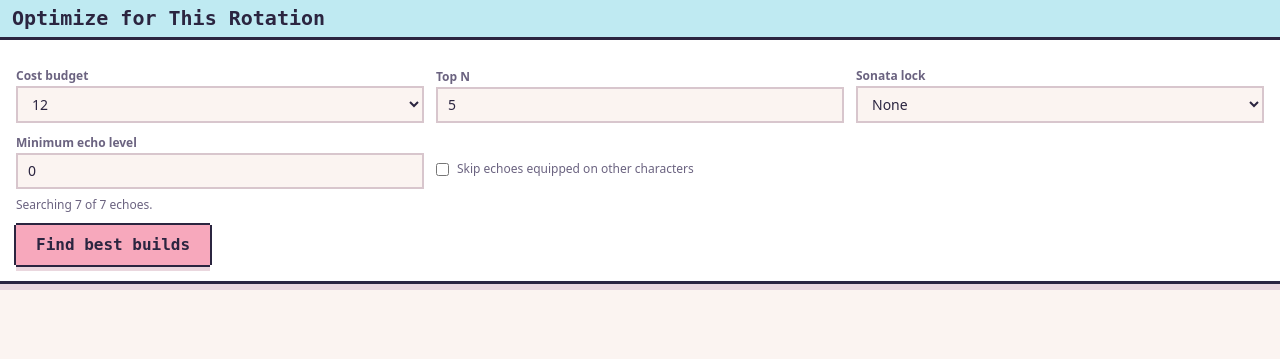
it: RotationOptimizer candidate filters › rejects an out-of-range minimum level
Step 1. Replace the text in the field labelled "Minimum echo level" with "30" → (220, 171), box [16, 153, 424, 189]
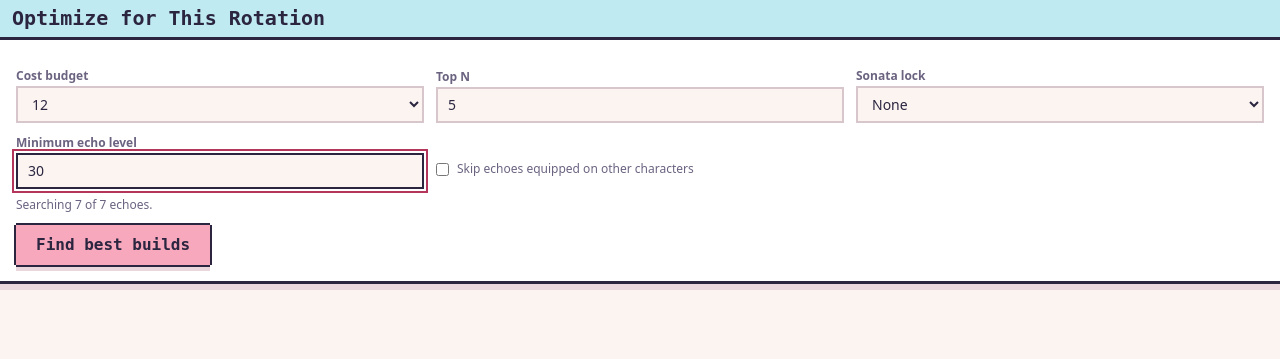
Step 2. Click the button "Find best builds" → (113, 245), box [16, 225, 210, 265]
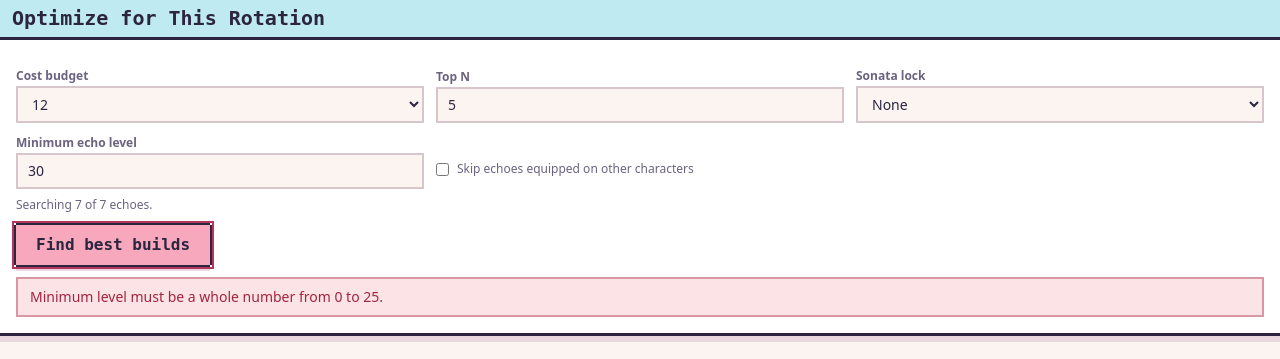
Check: the text "Minimum level must be a whole number from 0 to 25." is shown, box [16, 277, 1264, 317]
